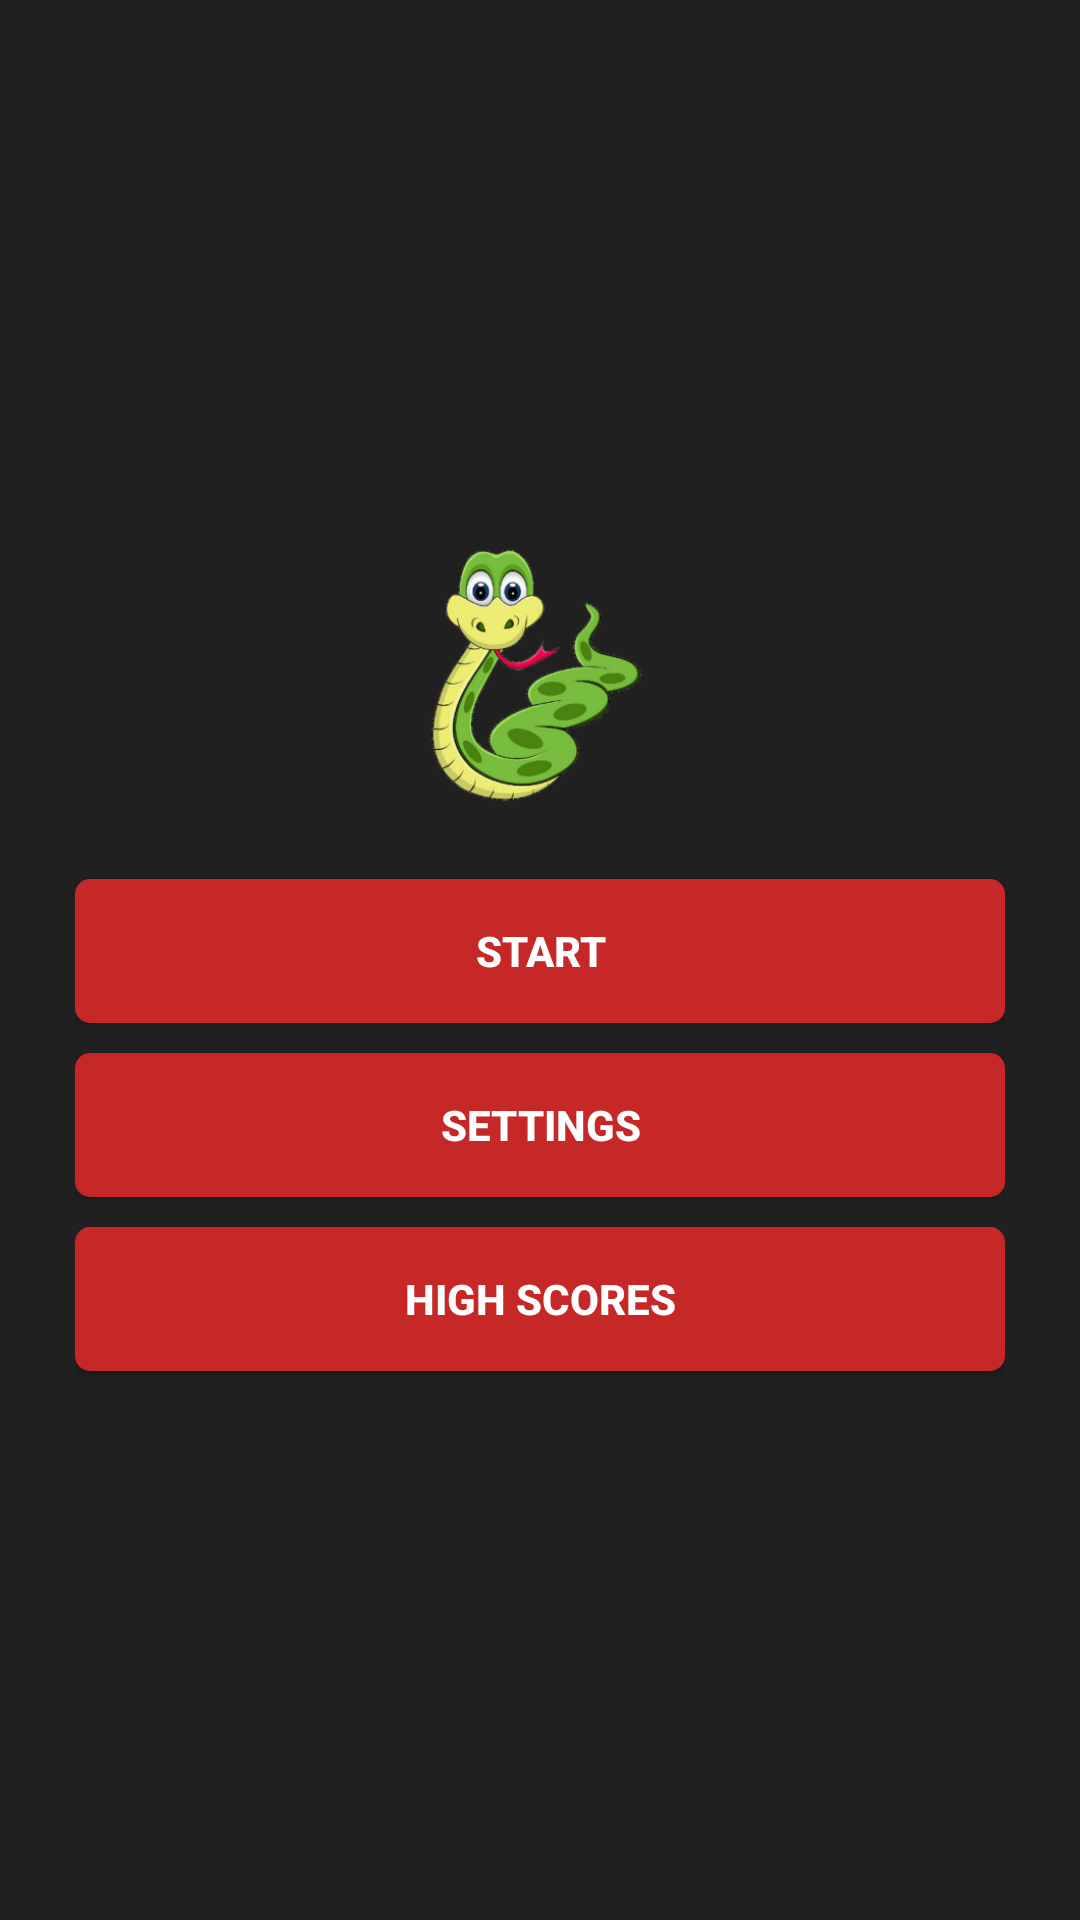

Icon click points for this 1080×1920 phone screenshot, format [x,y]:
snake: [537,675]
